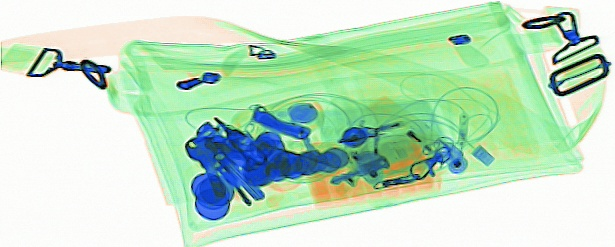lighter: (368, 93, 463, 169)
